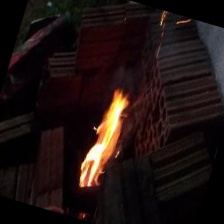fire: (63, 76, 146, 209)
